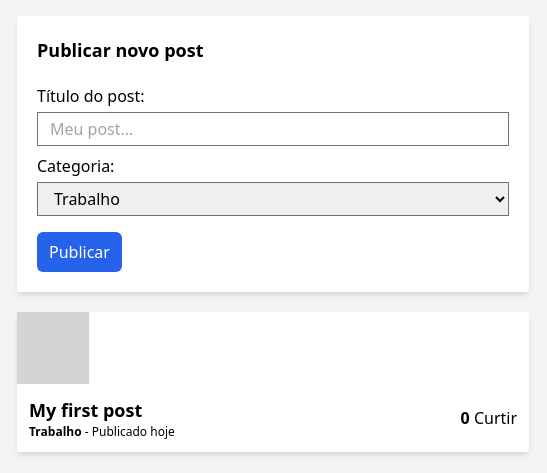
Test: Handle Post › Like post created
The width and height of the screenshot is (547, 473).
Click the text "0" at (466, 418), box [461, 407, 470, 429]
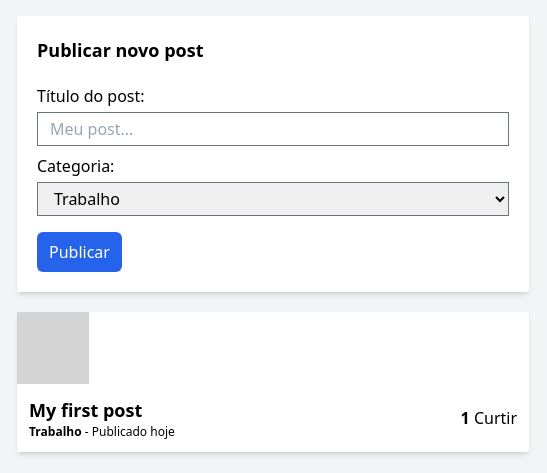
Expected: the text "1" is shown, [461, 407, 470, 429]
